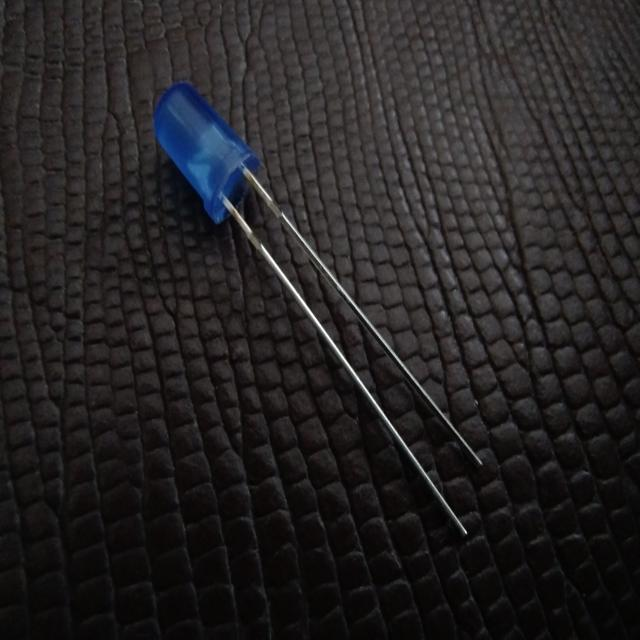blue_led: (152, 80, 261, 226)
